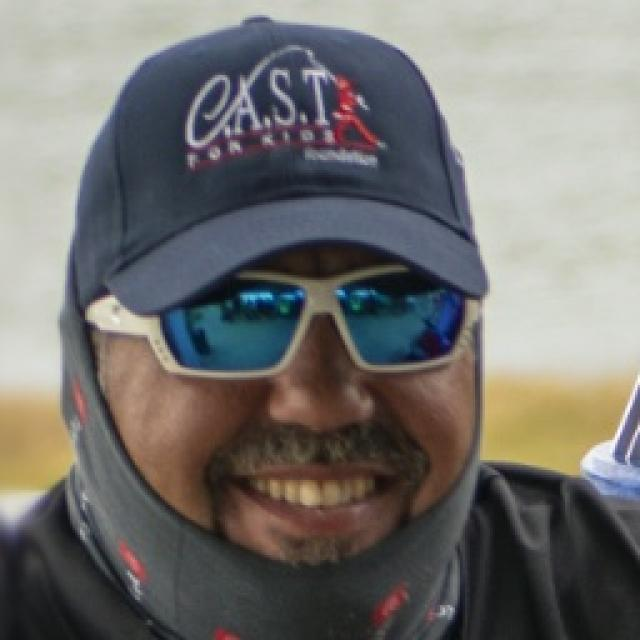glasses: (108, 261, 482, 391)
